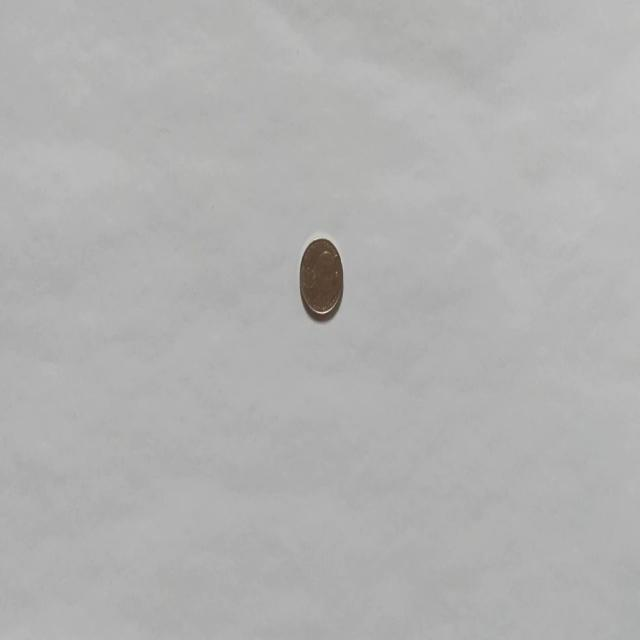seribu rupiah koin: (298, 233, 344, 322)
